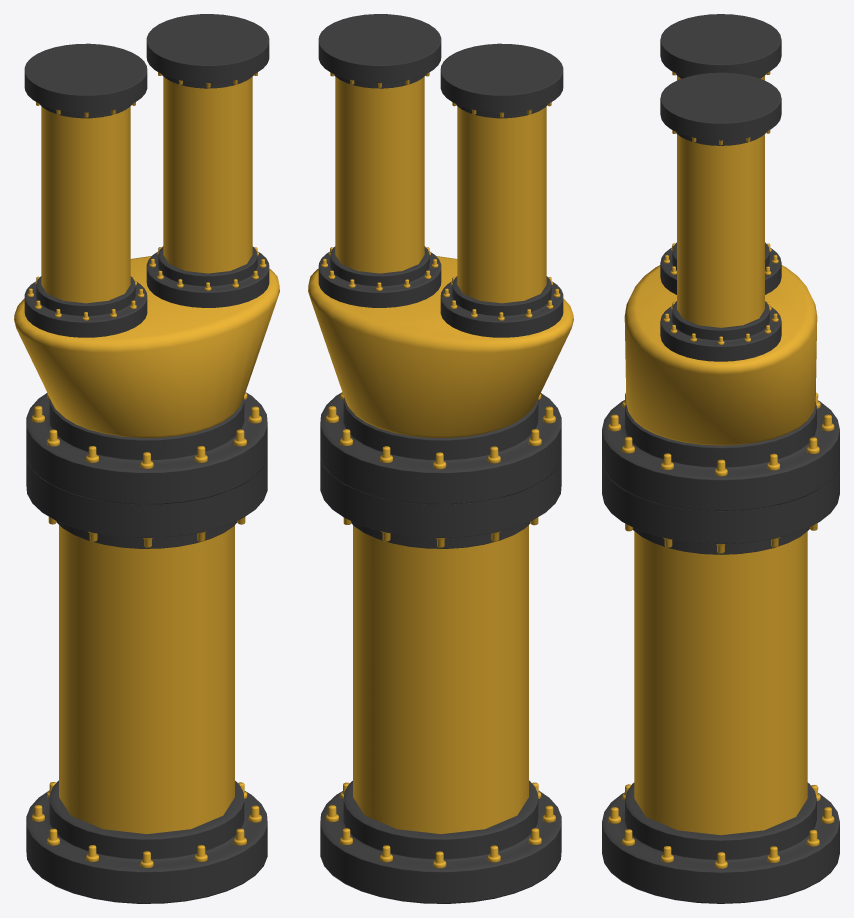
Rendered from PipeMux.fbx.
3 views of the same model, side by side, from view 1: azimuth 30°, elevation 25°; view 2: azimuth 150°, elevation 25°; view 3: azimuth 270°, elevation 25° (orthographic).
Visible parts, largest first — view 1: PipeIn, ConnettoreImbuto, Giunzione2, PipeOut2, PipeOut1, Giunzione2.001, Giunzione1, GiunzioneOut1_2, GiunzioneOut2_2, GiunzioneOut2_1, GiunzioneOut1_1; view 2: PipeIn, ConnettoreImbuto, Giunzione2, PipeOut2, PipeOut1, Giunzione2.001, Giunzione1, GiunzioneOut1_2, GiunzioneOut2_2, GiunzioneOut1_1, GiunzioneOut2_1; view 3: PipeIn, ConnettoreImbuto, Giunzione2, PipeOut2, Giunzione2.001, Giunzione1, GiunzioneOut2_2, GiunzioneOut1_2, GiunzioneOut2_1, GiunzioneOut1_1.
Boxes of the visible parts, <box> form: PipeIn: <box>59,525,234,833</box>; ConnettoreImbuto: <box>14,256,279,437</box>; Giunzione2: <box>26,780,267,903</box>; PipeOut2: <box>163,76,252,273</box>; PipeOut1: <box>41,106,130,303</box>; Giunzione2.001: <box>26,392,267,504</box>; Giunzione1: <box>26,453,267,548</box>; GiunzioneOut1_2: <box>24,43,147,118</box>; GiunzioneOut2_2: <box>146,14,269,88</box>; GiunzioneOut2_1: <box>146,246,269,307</box>; GiunzioneOut1_1: <box>24,276,147,337</box>; PipeIn: <box>353,525,528,833</box>; ConnettoreImbuto: <box>308,256,573,437</box>; Giunzione2: <box>320,780,561,903</box>; PipeOut2: <box>335,76,424,273</box>; PipeOut1: <box>457,106,546,303</box>; Giunzione2.001: <box>320,392,561,504</box>; Giunzione1: <box>320,453,561,548</box>; GiunzioneOut1_2: <box>440,43,563,118</box>; GiunzioneOut2_2: <box>318,14,441,88</box>; GiunzioneOut1_1: <box>440,276,563,337</box>; GiunzioneOut2_1: <box>318,246,441,307</box>; PipeIn: <box>634,531,807,835</box>; ConnettoreImbuto: <box>624,265,817,445</box>; Giunzione2: <box>602,782,839,903</box>; PipeOut2: <box>677,134,764,327</box>; Giunzione2.001: <box>602,400,839,510</box>; Giunzione1: <box>602,461,839,554</box>; GiunzioneOut2_2: <box>660,72,781,145</box>; GiunzioneOut1_2: <box>660,14,781,78</box>; GiunzioneOut2_1: <box>660,301,781,361</box>; GiunzioneOut1_1: <box>660,242,781,294</box>.
Bounding box in the file's own units: 32.48 × 100 × 27.48.
